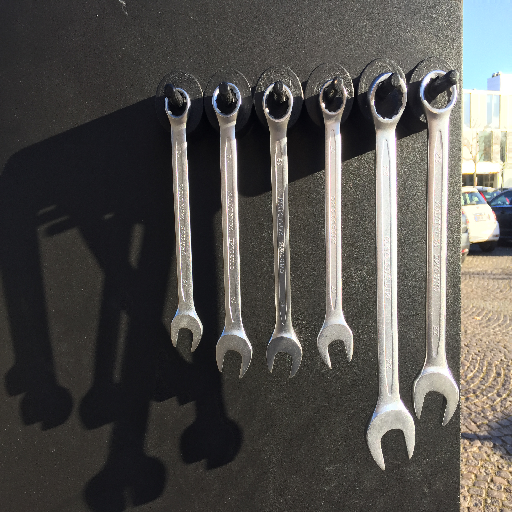bottom: (363, 404, 417, 472), (410, 364, 461, 427), (314, 318, 356, 370), (213, 329, 255, 380), (263, 331, 304, 381), (167, 309, 205, 354)
top: (366, 70, 409, 128), (417, 68, 460, 122), (259, 80, 296, 125), (210, 80, 245, 121), (317, 79, 350, 122), (162, 85, 194, 124)
